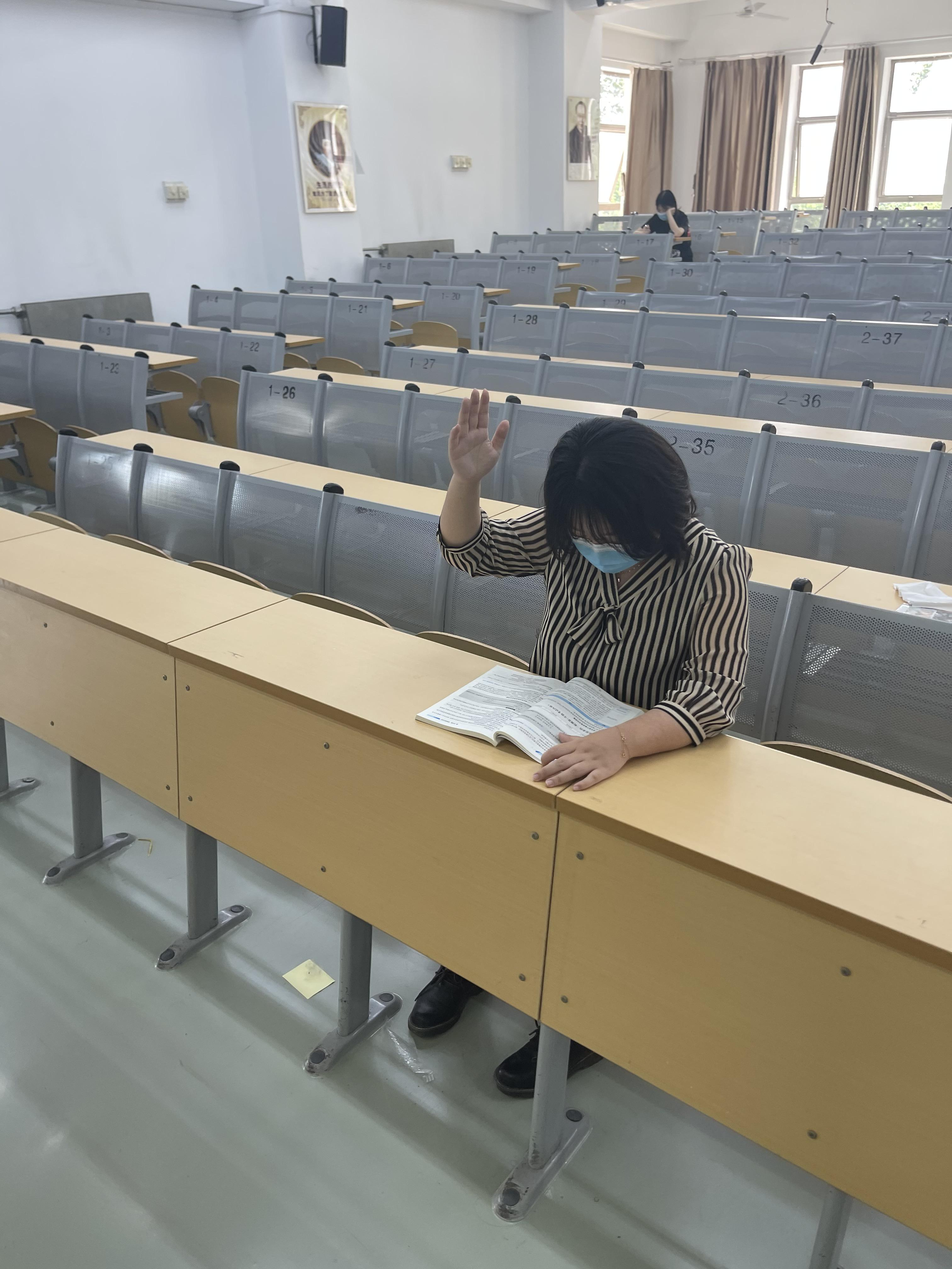study: (443, 389, 747, 786)
